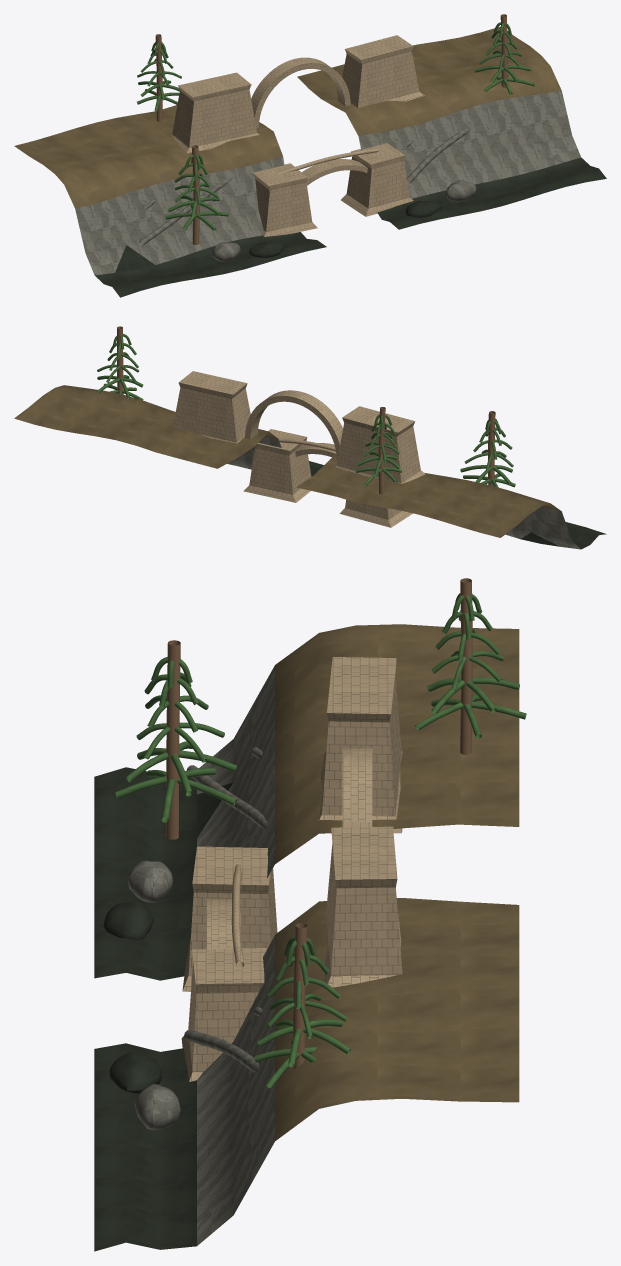
The model's file is GoldenIntegratedBaseV1.glb.
3 renders of one model, top to bottom at view 1: azimuth 30°, elevation 25°; view 2: azimuth 150°, elevation 25°; view 3: azimuth 270°, elevation 25°, orthographic. The views are drawn at different scales.
Visible parts, largest first — view 1: IntegratedBank_West, IntegratedBank_East, GateEdge_WestBuriedPlinth, GateEdge_EastBuriedPlinth, BridgeEdge_EastAbutment, BridgeEdge_WestAbutment, GateEdge_DeepArchLip, BridgeEdge_LoadArch, TreeIntegrated_ForegroundWest_Trunk, RockStrata_Ridge_01, RockStrata_Ridge_00, ShoreRock_E1 (+5 smaller); view 2: IntegratedBank_West, IntegratedBank_East, GateEdge_EastBuriedPlinth, GateEdge_WestBuriedPlinth, BridgeEdge_EastAbutment, GateEdge_DeepArchLip, BridgeEdge_WestAbutment, TreeIntegrated_WestGate_Trunk, TreeIntegrated_ForegroundWest_Trunk, BridgeEdge_LoadArch, TreeIntegrated_EastBank_Trunk; view 3: IntegratedBank_East, IntegratedBank_West, GateEdge_EastBuriedPlinth, GateEdge_WestBuriedPlinth, BridgeEdge_WestAbutment, BridgeEdge_EastAbutment, GateEdge_DeepArchLip, TreeIntegrated_ForegroundWest_Trunk, ShoreRock_E1, TreeIntegrated_WestGate_Trunk, ShoreRock_E0, ShoreRock_W0 (+5 smaller).
Boxes of the visible parts, box(x1,y1,x2,y2) form: IntegratedBank_West: box(14, 105, 326, 297); IntegratedBank_East: box(297, 26, 606, 229); GateEdge_WestBuriedPlinth: box(171, 72, 259, 153); GateEdge_EastBuriedPlinth: box(342, 35, 424, 107); BridgeEdge_EastAbutment: box(341, 143, 413, 216); BridgeEdge_WestAbutment: box(253, 163, 317, 236); GateEdge_DeepArchLip: box(251, 57, 350, 127); BridgeEdge_LoadArch: box(302, 159, 367, 185); TreeIntegrated_ForegroundWest_Trunk: box(191, 145, 199, 244); RockStrata_Ridge_01: box(406, 127, 470, 183); RockStrata_Ridge_00: box(139, 177, 232, 245); ShoreRock_E1: box(445, 180, 476, 201); IntegratedBank_West: box(296, 454, 606, 549); IntegratedBank_East: box(14, 385, 323, 476); GateEdge_EastBuriedPlinth: box(172, 371, 250, 443); GateEdge_WestBuriedPlinth: box(335, 406, 425, 483); BridgeEdge_EastAbutment: box(243, 429, 311, 502); GateEdge_DeepArchLip: box(245, 390, 342, 460); BridgeEdge_WestAbutment: box(339, 500, 412, 527); TreeIntegrated_WestGate_Trunk: box(378, 407, 385, 494); TreeIntegrated_ForegroundWest_Trunk: box(488, 411, 495, 486); BridgeEdge_LoadArch: box(295, 443, 336, 456); TreeIntegrated_EastBank_Trunk: box(117, 326, 123, 394); IntegratedBank_East: box(94, 898, 519, 1251); IntegratedBank_West: box(94, 624, 519, 980); GateEdge_EastBuriedPlinth: box(323, 826, 402, 987); GateEdge_WestBuriedPlinth: box(319, 657, 402, 833); BridgeEdge_WestAbutment: box(182, 846, 277, 991); BridgeEdge_EastAbutment: box(181, 948, 266, 1081); GateEdge_DeepArchLip: box(342, 747, 372, 827); TreeIntegrated_ForegroundWest_Trunk: box(166, 640, 180, 839); ShoreRock_E1: box(134, 1084, 180, 1130); TreeIntegrated_WestGate_Trunk: box(460, 578, 472, 754); ShoreRock_E0: box(109, 1052, 162, 1093); ShoreRock_W0: box(103, 902, 153, 940).
Size of the model in its own units: 46 by 15.07 by 17.7.
8 materials, 7 textured.
